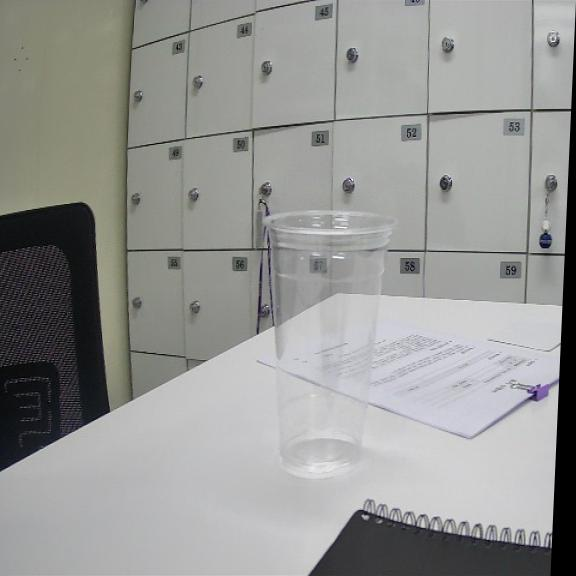Plastik: (266, 212, 394, 476)
